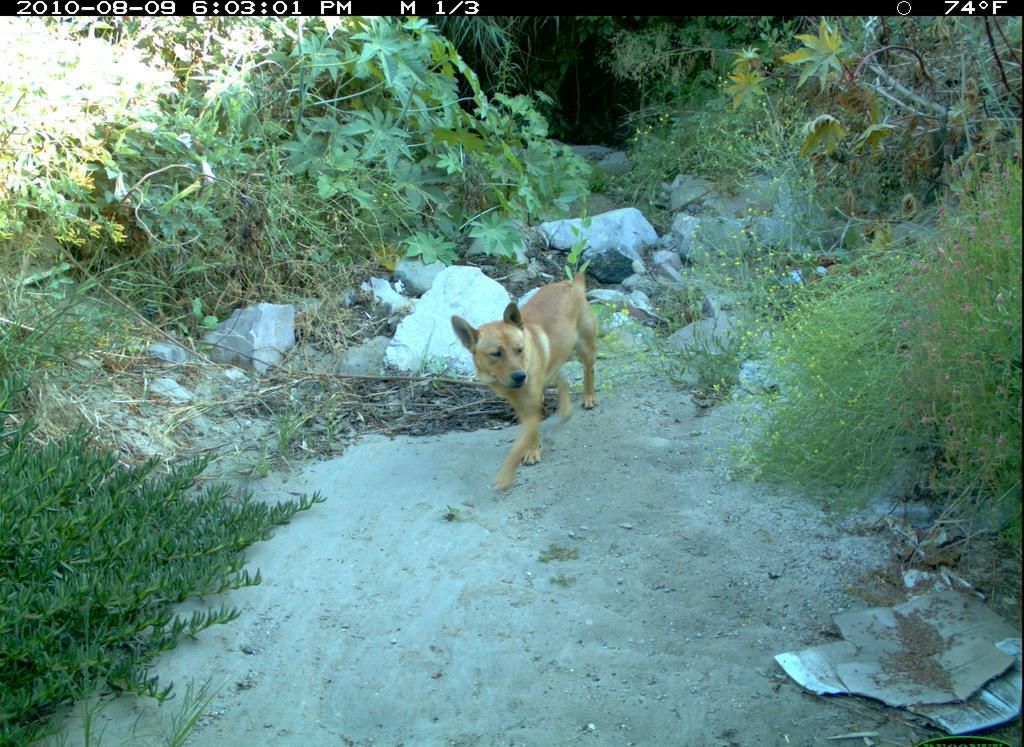dog: (446, 262, 611, 495)
